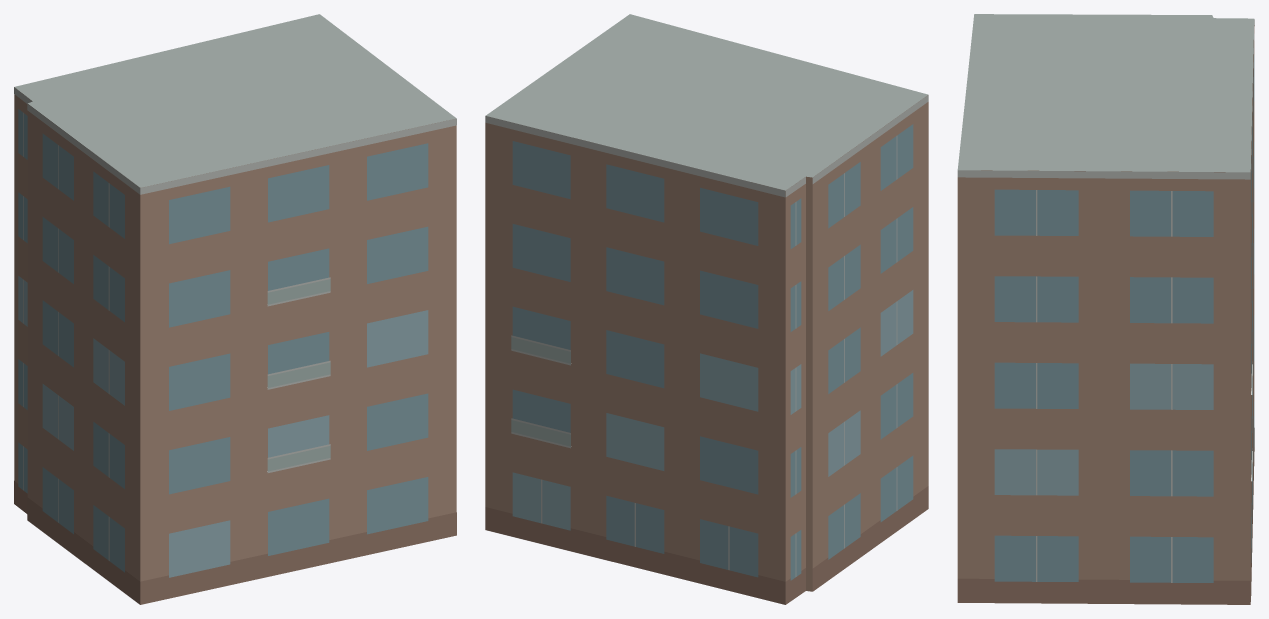
File: survey-upis-32935974.glb
3 renders of one model, left to right at view 1: azimuth 30°, elevation 25°; view 2: azimuth 150°, elevation 25°; view 3: azimuth 270°, elevation 25°, orthographic. The views are drawn at different scales.
Parts seen in each view (by area): view 1: survey-upis-32935974.tmp; view 2: survey-upis-32935974.tmp; view 3: survey-upis-32935974.tmp.
Boxes of the visible parts, <box> form: survey-upis-32935974.tmp: <box>14,14,456,604</box>; survey-upis-32935974.tmp: <box>485,14,928,604</box>; survey-upis-32935974.tmp: <box>957,14,1254,604</box>.
Bounding box in the file's own units: 11.47 × 14.6 × 9.09.
